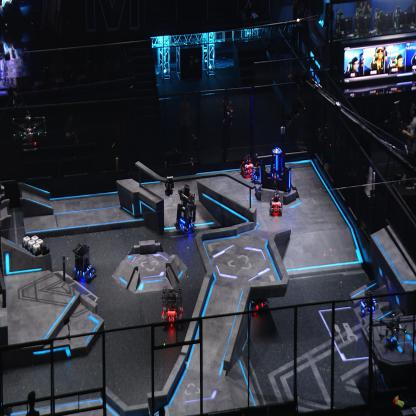car: (174, 187, 197, 234), (161, 284, 183, 330), (72, 242, 97, 282), (246, 277, 270, 317), (360, 287, 378, 316), (240, 151, 256, 177), (268, 190, 283, 216), (250, 162, 265, 185)
